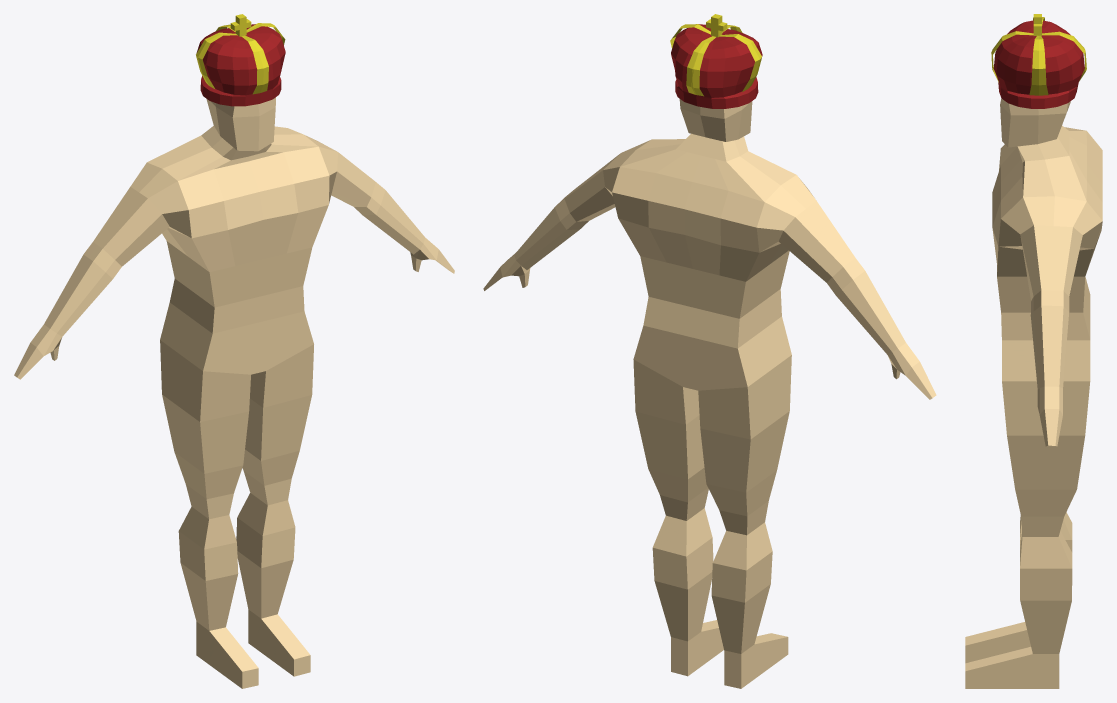
Rendered from carrara_king.fbx.
3 views of the same model, side by side, from view 1: azimuth 30°, elevation 25°; view 2: azimuth 150°, elevation 25°; view 3: azimuth 270°, elevation 25° (orthographic). The views are drawn at different scales.
Visible parts, largest first — view 1: king; view 2: king; view 3: king.
Boxes of the visible parts, <box> form: king: <box>14,14,454,688</box>; king: <box>483,14,936,688</box>; king: <box>965,14,1102,688</box>.
Size of the model in its own units: 129 by 180 by 34.24.
